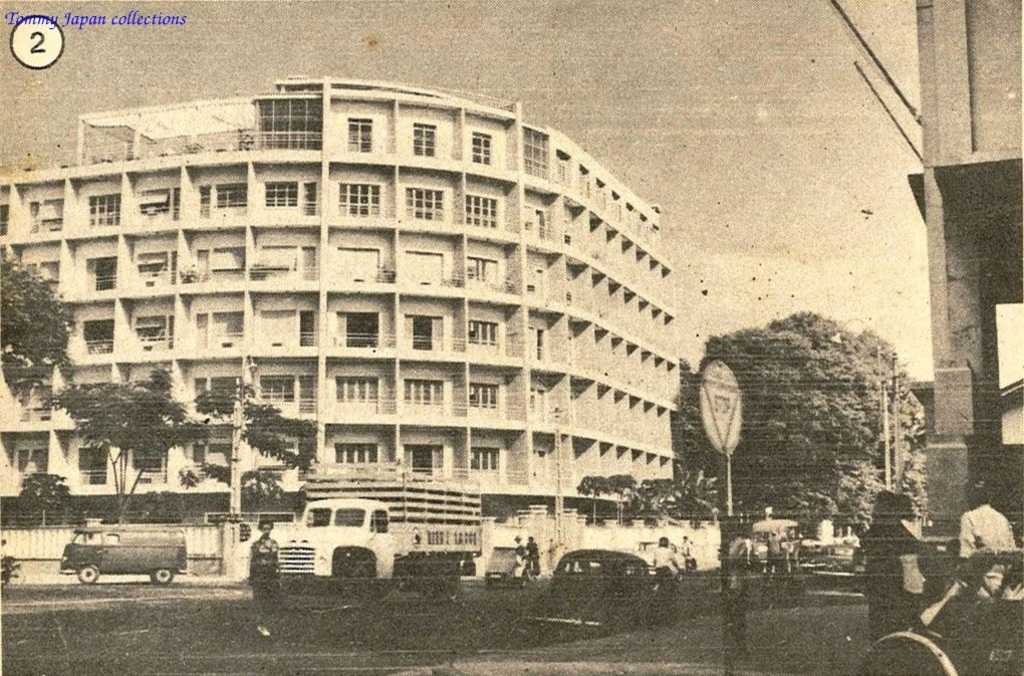Car: (858, 544, 1022, 674), (532, 546, 666, 633)
